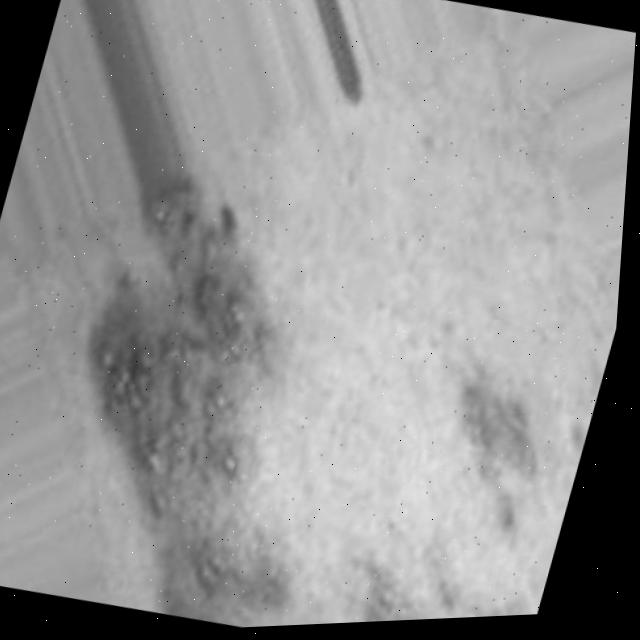Shingles: (31, 165, 384, 631), (433, 357, 567, 515), (343, 563, 444, 623)
